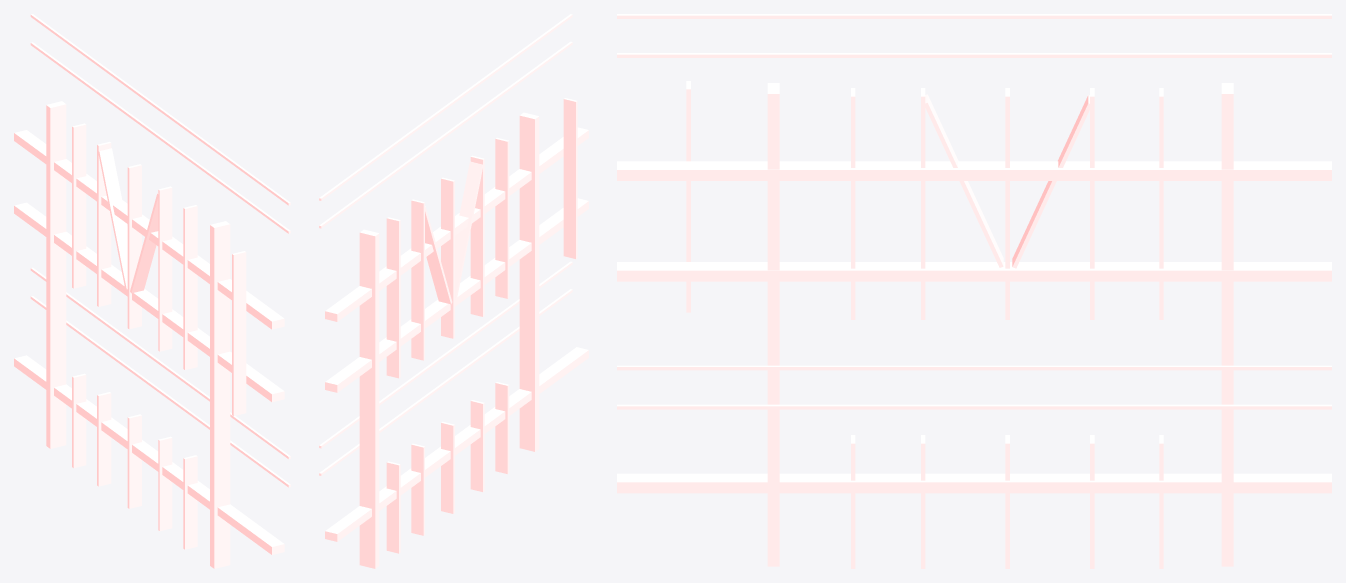
The model's file is factory door barre metal.fbx.
3 renders of one model, left to right at view 1: azimuth 30°, elevation 25°; view 2: azimuth 150°, elevation 25°; view 3: azimuth 270°, elevation 25°, orthographic. The views are drawn at different scales.
Parts seen in each view (by area): view 1: factory_door_barre_metal__123_; view 2: factory_door_barre_metal__123_; view 3: factory_door_barre_metal__123_.
Part boxes in pixels (x1,y1,x2,y2): factory_door_barre_metal__123_: (14,14,290,568); factory_door_barre_metal__123_: (319,14,588,568); factory_door_barre_metal__123_: (617,14,1331,568).
Bounding box in the file's own units: 137 × 1642 × 1901.
